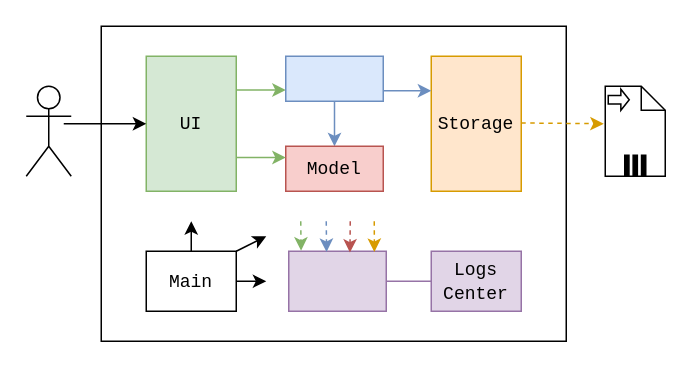
The diagram is 692 pixels wide and 368 high, and some of its shapes have lost their labels. Each missing label, with the box of its shape:
Commons: (287, 250, 386, 311)
Logic: (284, 55, 383, 101)
